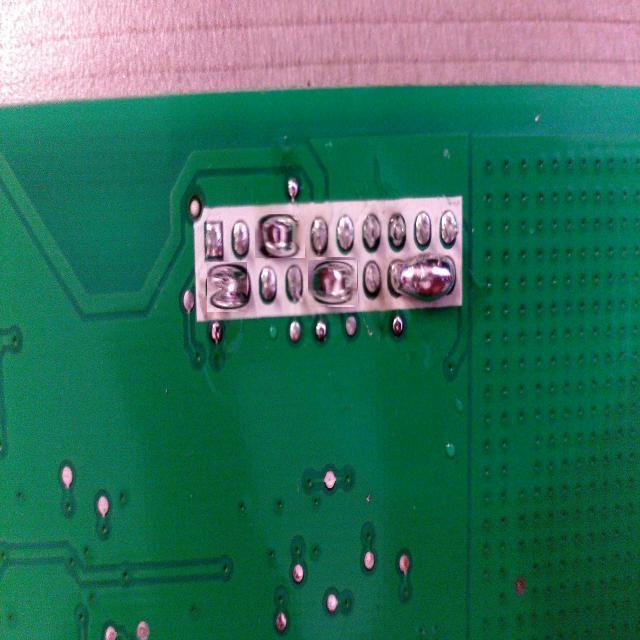Short_circuit: (386, 255, 460, 302), (309, 258, 357, 306), (256, 213, 304, 260), (205, 264, 250, 309)
